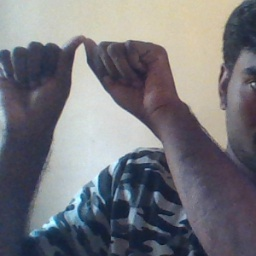A: (14, 23, 136, 125)
